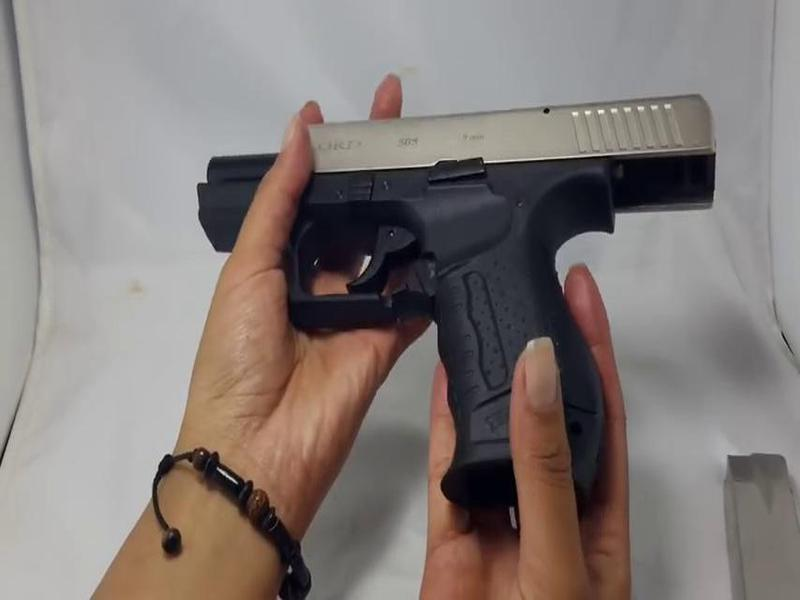Pistola: (175, 90, 730, 494)
